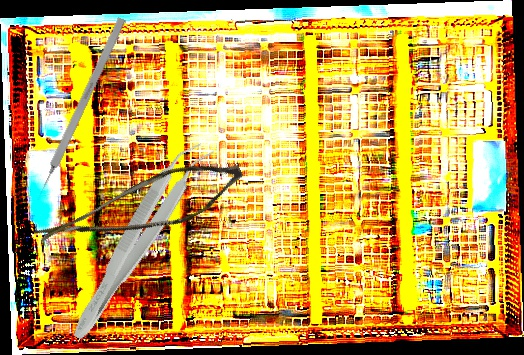Hook Surgical: (33, 16, 127, 203)
Micro Scissor: (34, 130, 250, 288)
Tissue Forceps: (63, 132, 217, 350)
